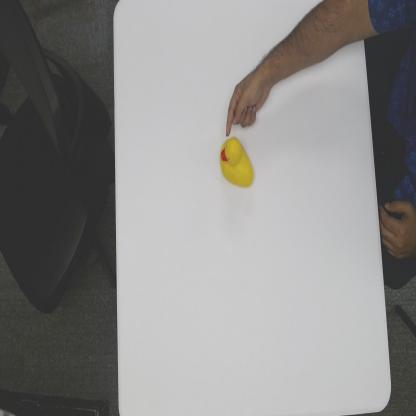Arm: (264, 0, 366, 86)
Duck: (218, 136, 256, 190)
Hand: (224, 69, 272, 138)
